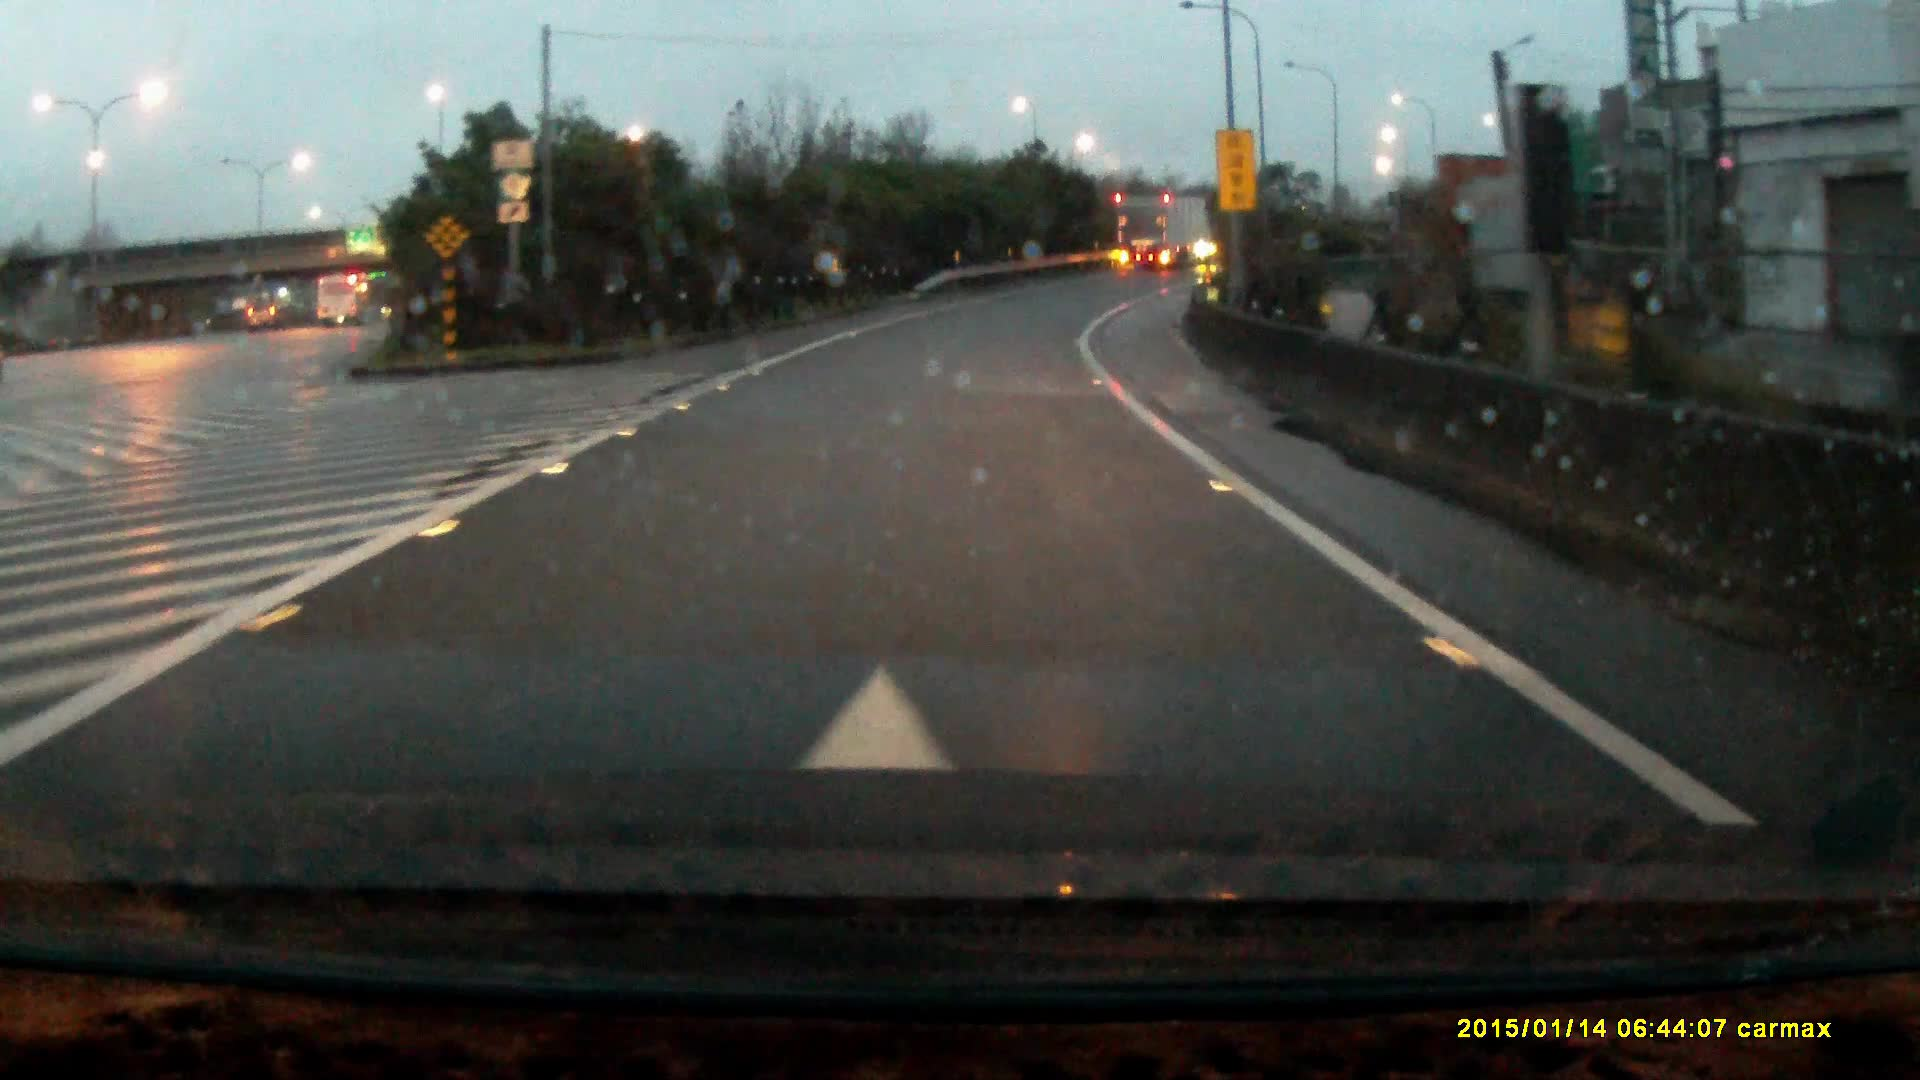vehicle: (1116, 196, 1215, 276), (315, 273, 372, 328), (248, 305, 284, 334)
